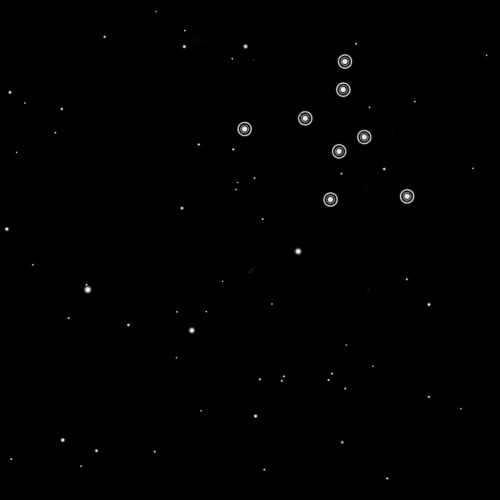hercules: (230, 51, 420, 211)
